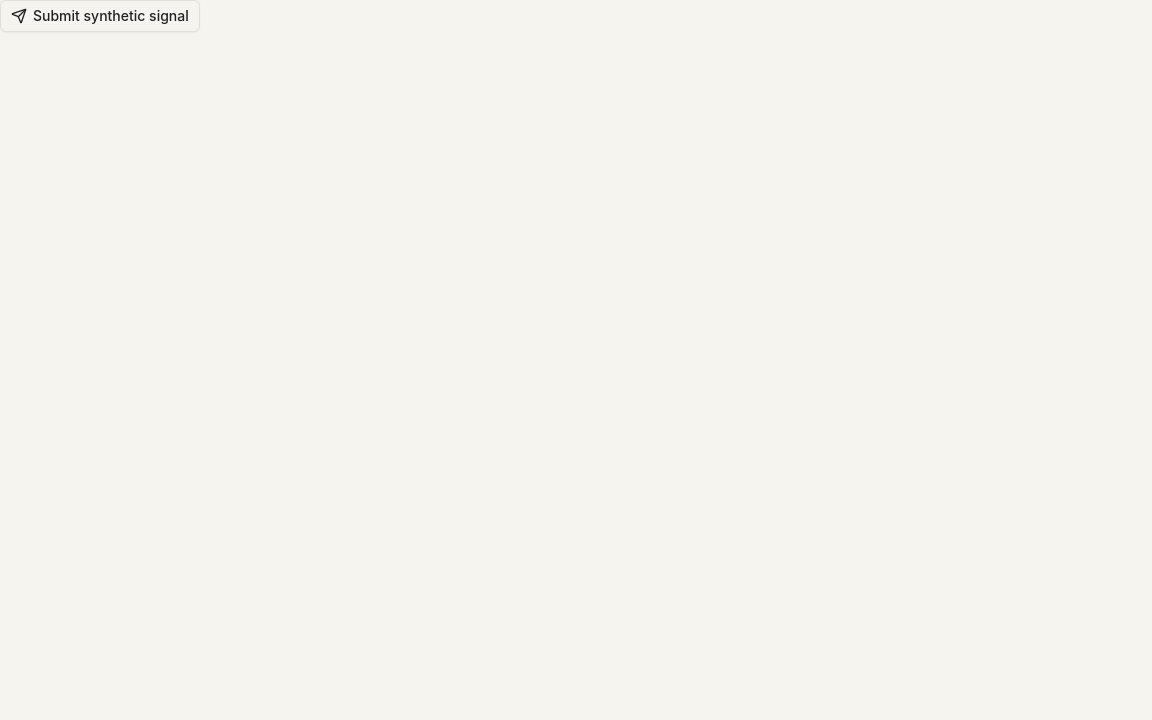
SubmitSignalSheet › announces a failure to store as an alert
What coordinates should you click on to do the following:
click the button "Submit synthetic signal"
I would click on:
 (100, 16)
Its box is [0,0,200,32].
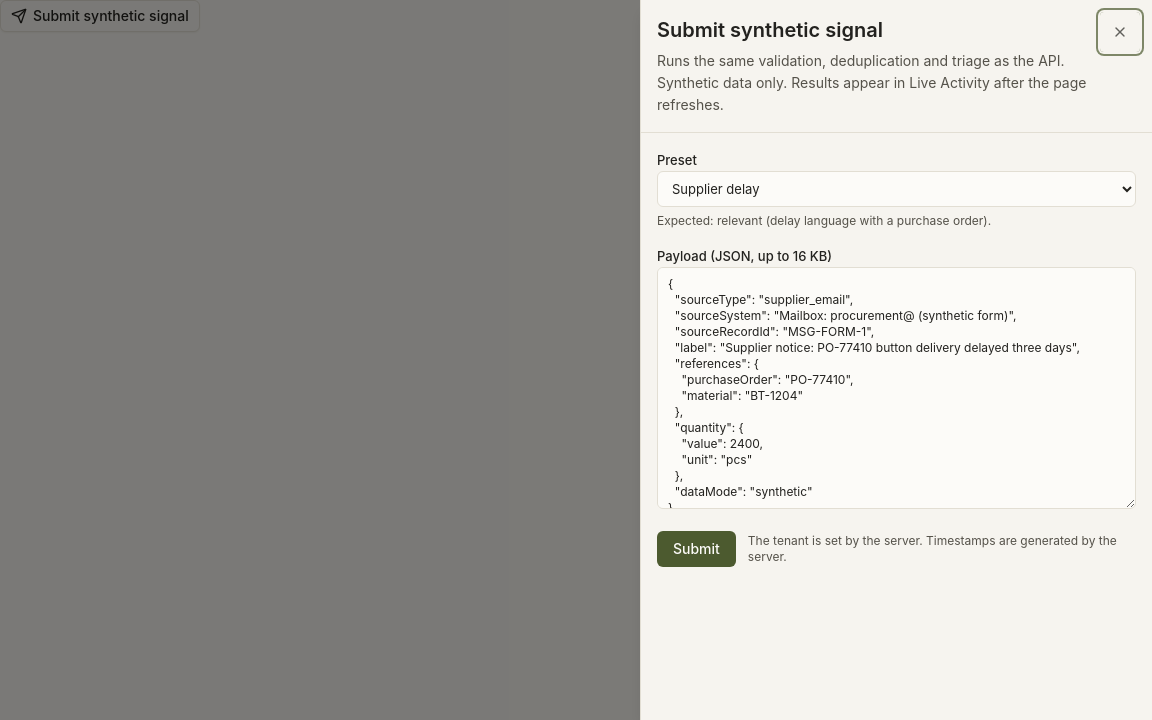
What coordinates should you click on to do the following:
click the button "Submit"
I would click on:
 (696, 549)
Its box is [657,531,736,567].
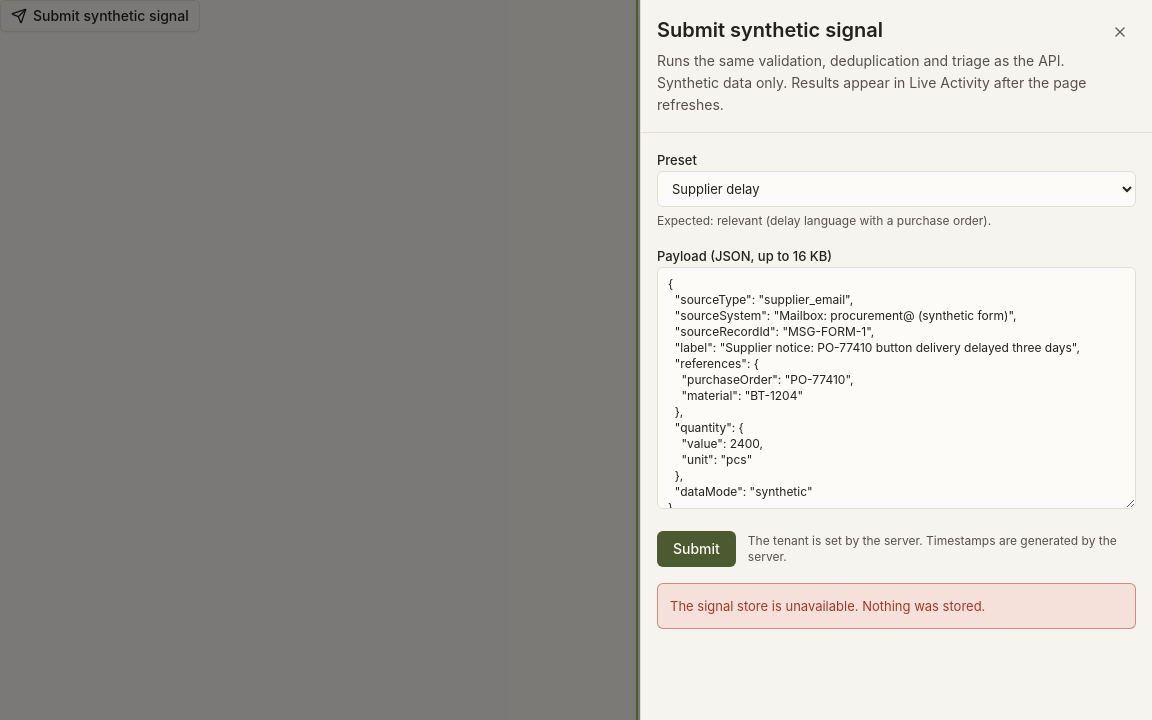
Now the message shows "Nothing was stored", box [670,598,985,614]
